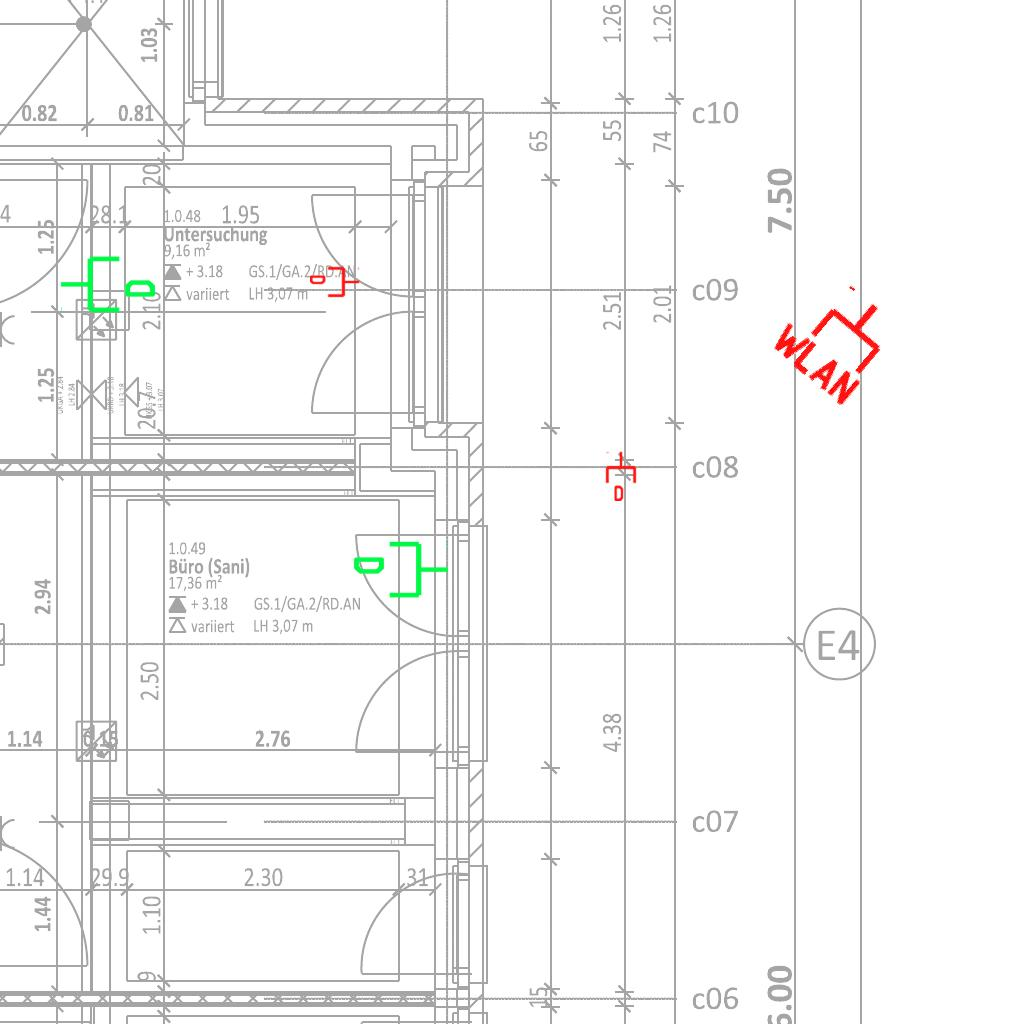Datenanschluss_einfach: (58, 248, 158, 317), (351, 537, 451, 606), (310, 265, 360, 299), (604, 451, 638, 501)
WLAN: (763, 263, 912, 411)
